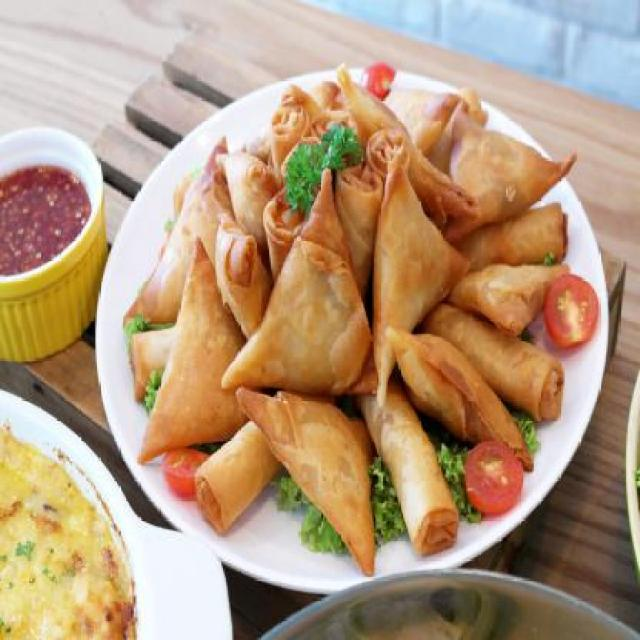samosa: (260, 216, 377, 558), (381, 161, 482, 437), (155, 176, 234, 444), (336, 64, 462, 190), (452, 106, 562, 200), (457, 250, 558, 321)
spring rolls: (268, 91, 386, 246), (361, 374, 462, 555), (191, 411, 277, 529), (457, 208, 578, 264), (128, 318, 178, 394)
